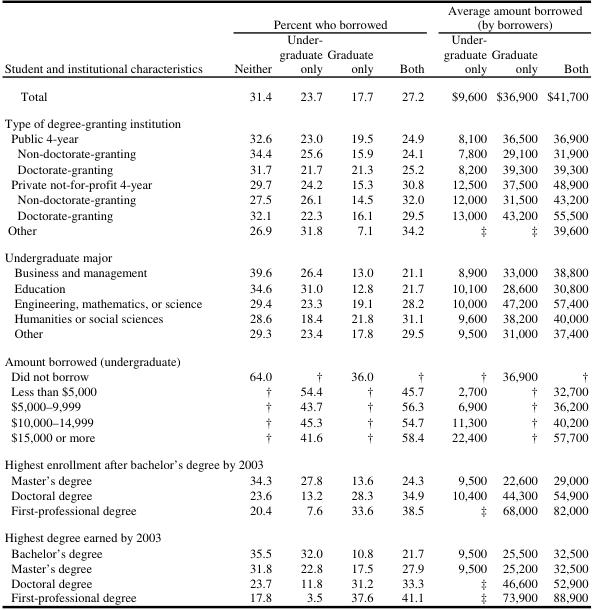table: (3, 3, 587, 604)
table column: (3, 3, 217, 604), (324, 3, 385, 604), (217, 3, 274, 604), (433, 3, 488, 604), (488, 3, 541, 604), (274, 3, 324, 604), (385, 3, 433, 604), (541, 3, 587, 604)
table column header: (3, 3, 587, 82)
table projected row header: (3, 243, 587, 265), (3, 109, 587, 130), (3, 347, 587, 368), (3, 451, 587, 472), (3, 524, 587, 545)
table row: (3, 32, 587, 82), (3, 3, 587, 32), (3, 82, 587, 109), (3, 243, 587, 265), (3, 109, 587, 130), (3, 222, 587, 243), (3, 326, 587, 347), (3, 347, 587, 368), (3, 430, 587, 451), (3, 451, 587, 472), (3, 503, 587, 524), (3, 524, 587, 545), (3, 130, 587, 146), (3, 176, 587, 192), (3, 295, 587, 311), (3, 368, 587, 384), (3, 414, 587, 430), (3, 487, 587, 503), (3, 560, 587, 576), (3, 146, 587, 161), (3, 161, 587, 176), (3, 192, 587, 207), (3, 207, 587, 222), (3, 265, 587, 280), (3, 280, 587, 295), (3, 311, 587, 326), (3, 384, 587, 399), (3, 399, 587, 414), (3, 472, 587, 487), (3, 545, 587, 560), (3, 576, 587, 590), (3, 590, 587, 604)
table spanning cell: (3, 3, 217, 82), (217, 3, 433, 32), (433, 3, 587, 32)
